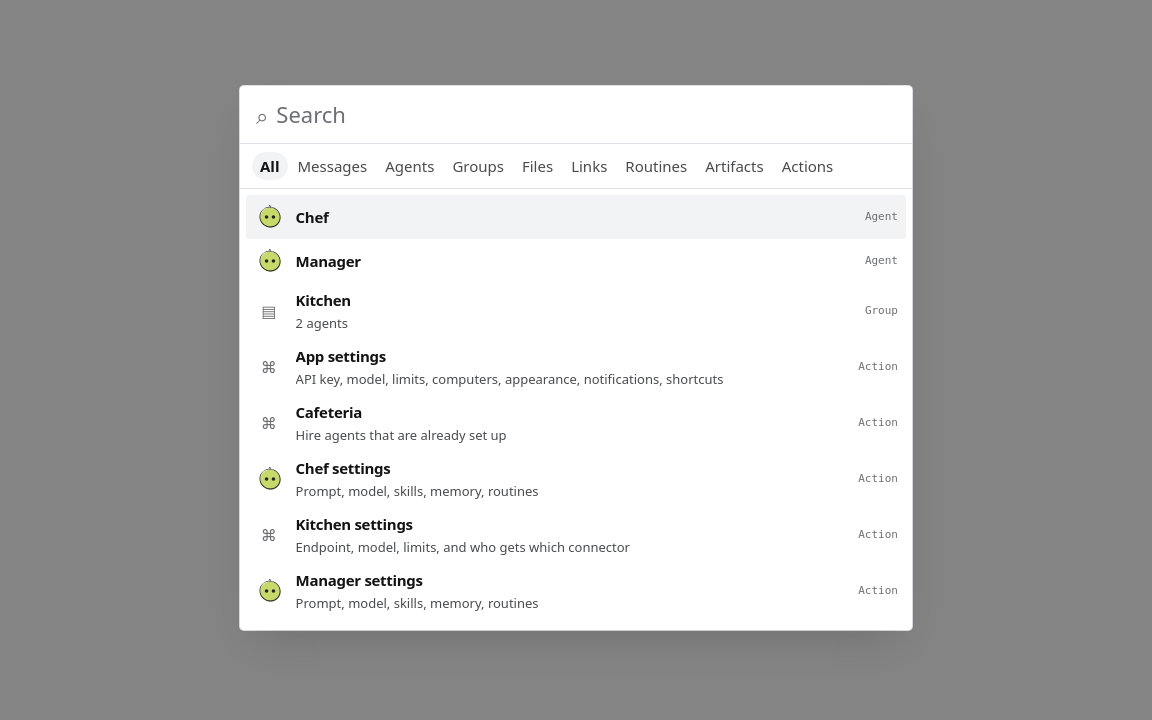
Search › ignores an answer to a query the operator has moved past
Type "b" into the field named "search the workspace" at {"x": 586, "y": 115}, box [276,98,896,131]
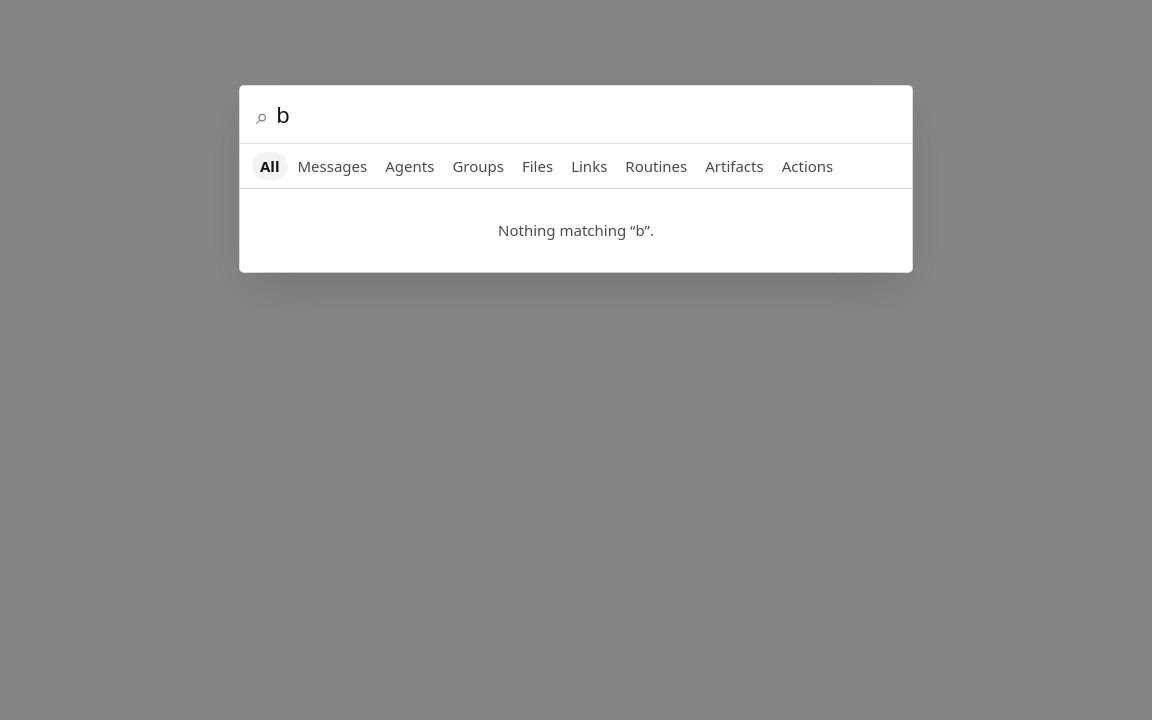
Replace the text in the field named "search the workspace" with "budget" at {"x": 586, "y": 115}, box [276,98,896,131]
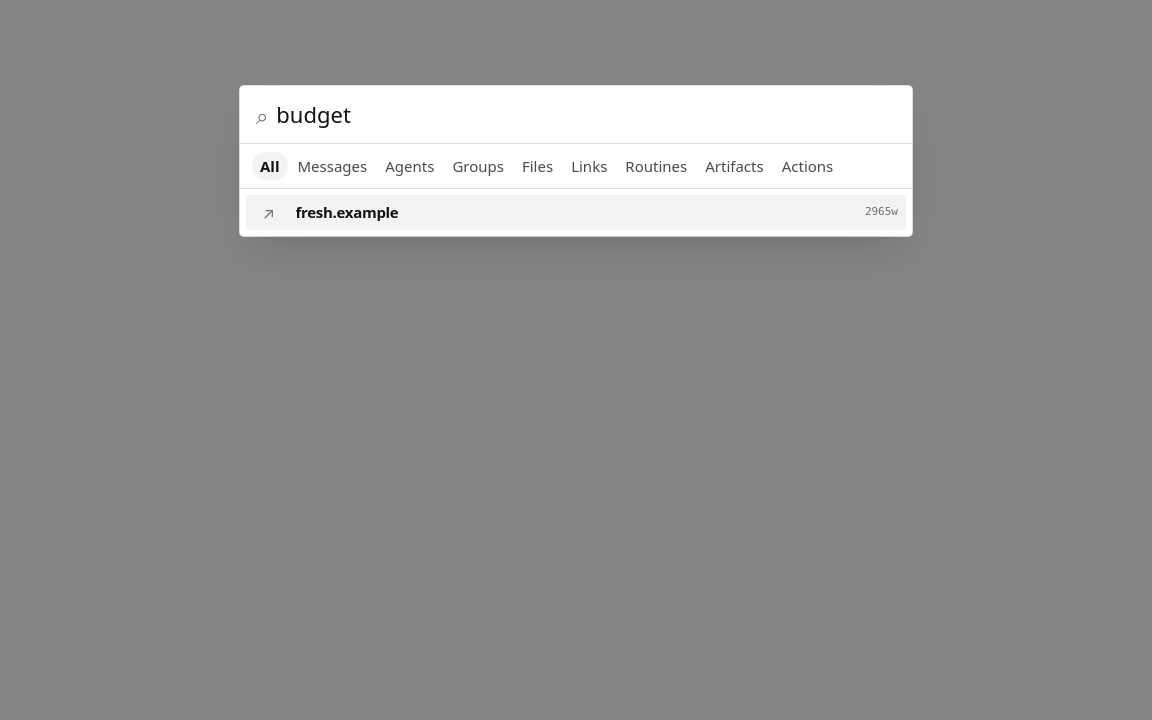
Now the text "fresh.example" is shown, box [296,202,398,222]
